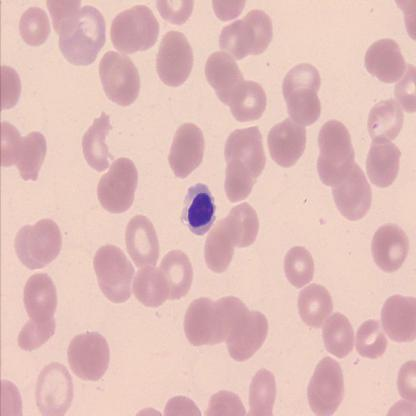NRC: (179, 181, 217, 236)
